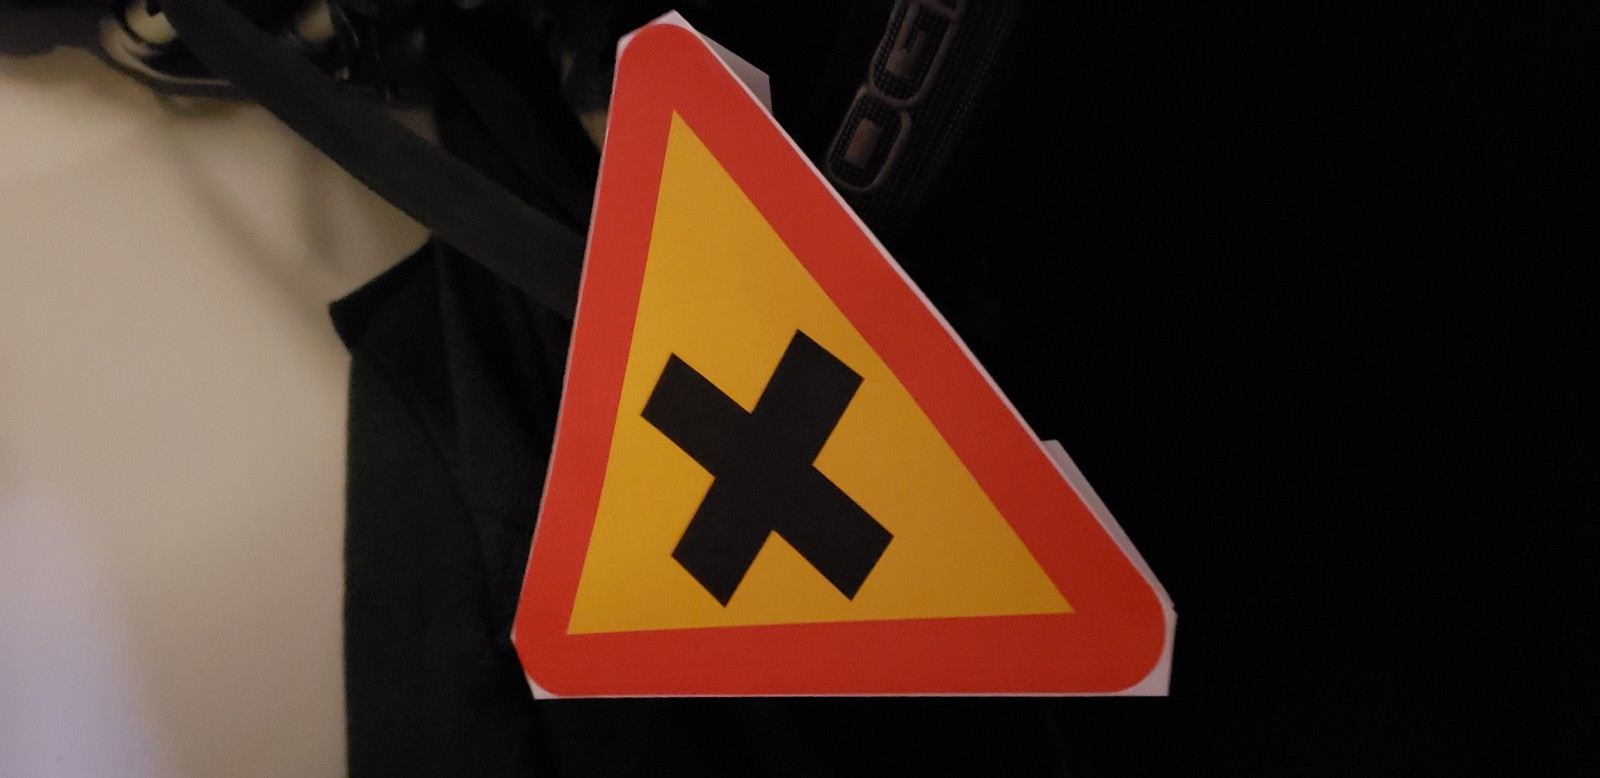junction: (398, 28, 1247, 734)
